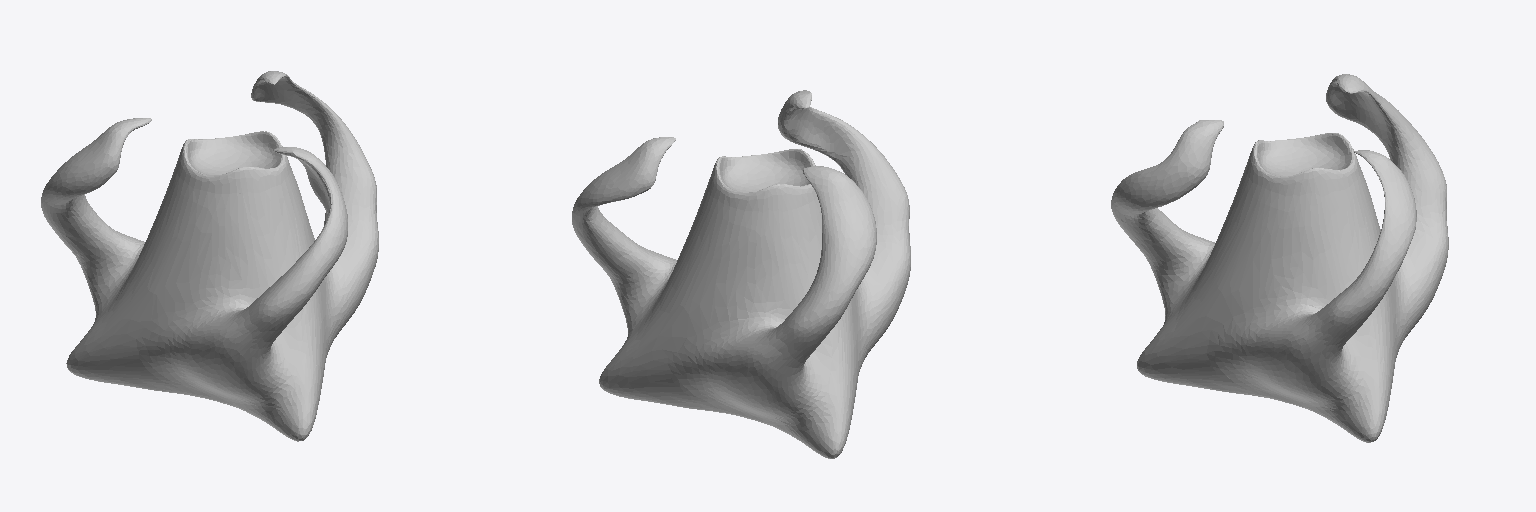
File: move-2.obj
3 views of the same model, side by side, from view 1: azimuth 30°, elevation 25°; view 2: azimuth 150°, elevation 25°; view 3: azimuth 270°, elevation 25° (orthographic).
Visible parts, largest first — view 1: Quad_Sphere; view 2: Quad_Sphere; view 3: Quad_Sphere.
Part boxes in pixels (bbox=[...]): Quad_Sphere: bbox=[41, 71, 378, 441]; Quad_Sphere: bbox=[572, 90, 910, 458]; Quad_Sphere: bbox=[1111, 74, 1448, 442].
Size of the model in its own units: 5.18 by 4.39 by 5.